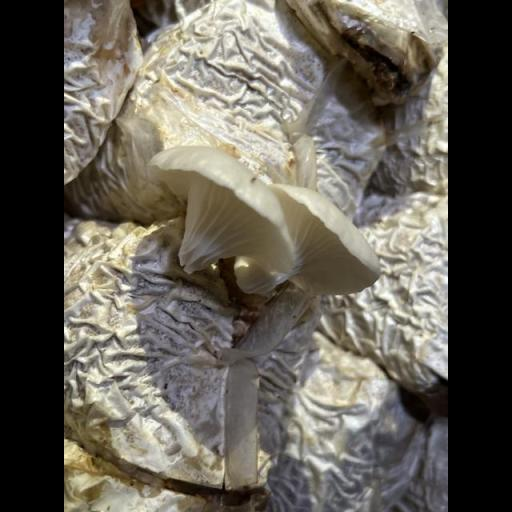White Oyster Mushroom: (150, 142, 378, 299)
